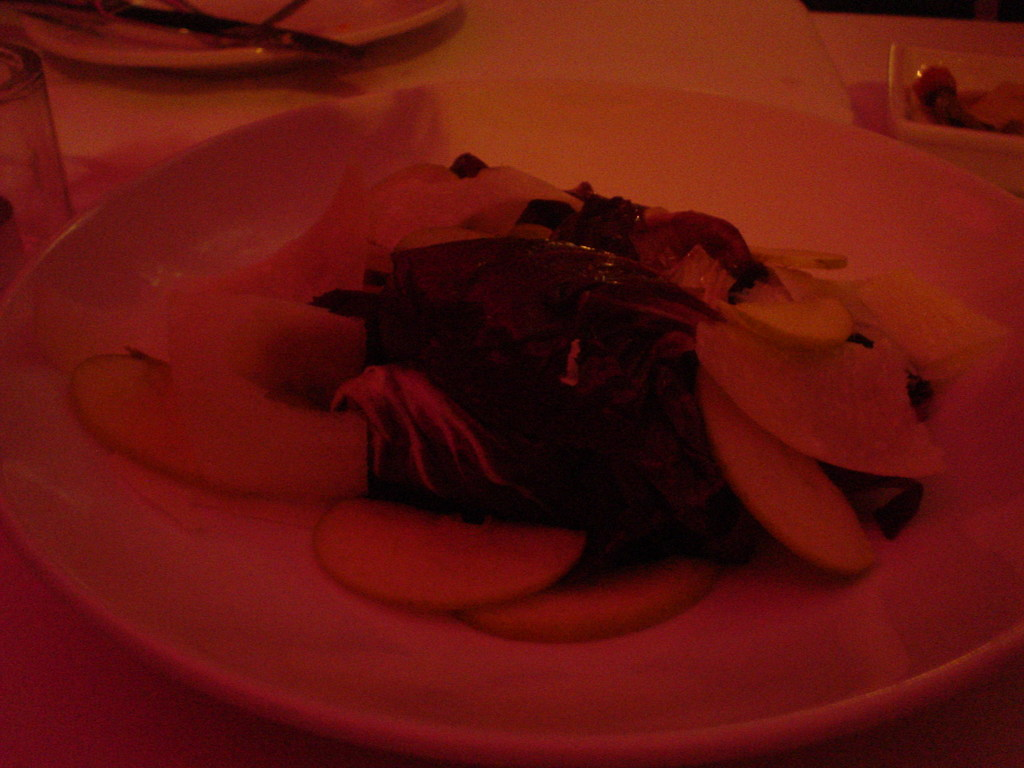plate: (0, 75, 1023, 767)
